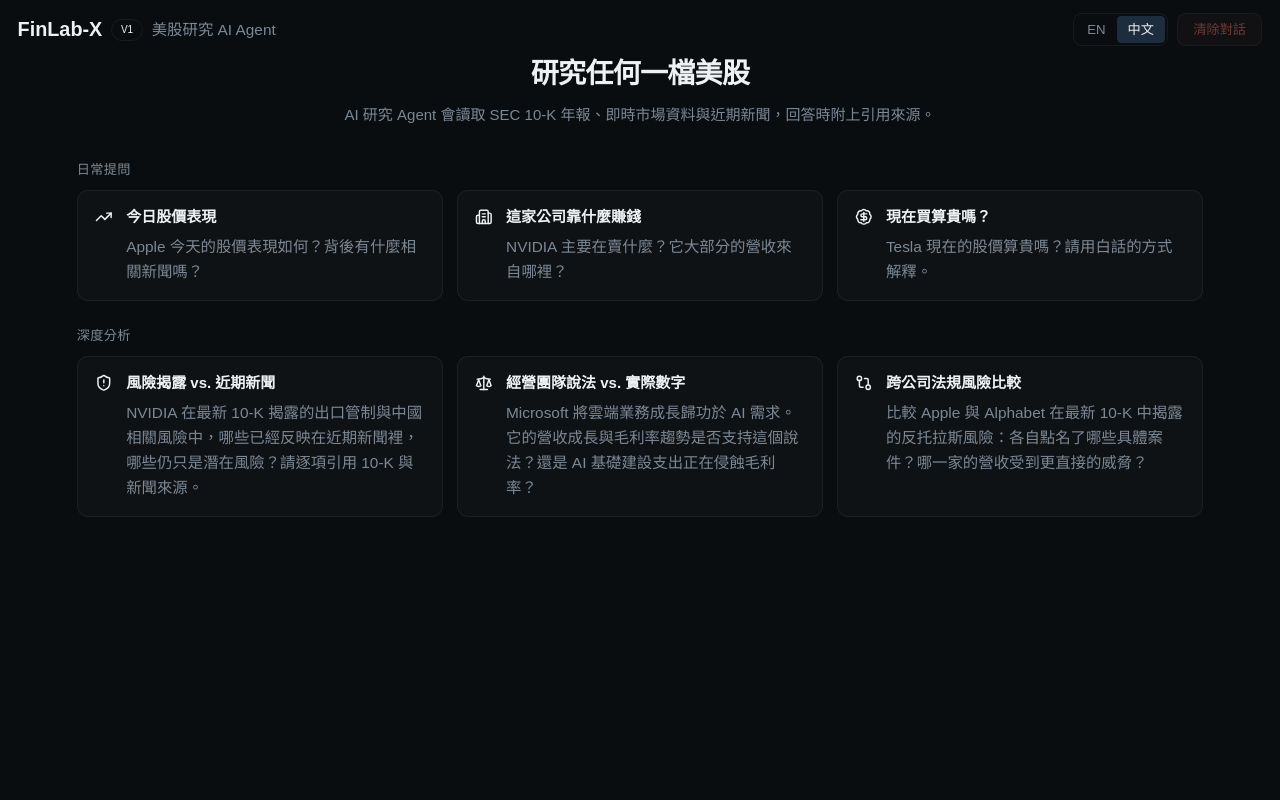
it: LanguageToggle › a stored choice survives a remount, and switching back to EN restores English
Check: the heading "研究任何一檔美股" is shown, box [531,53,749,95]
Click the button with aria-label "English": (1096,30) [1076,16,1116,43]
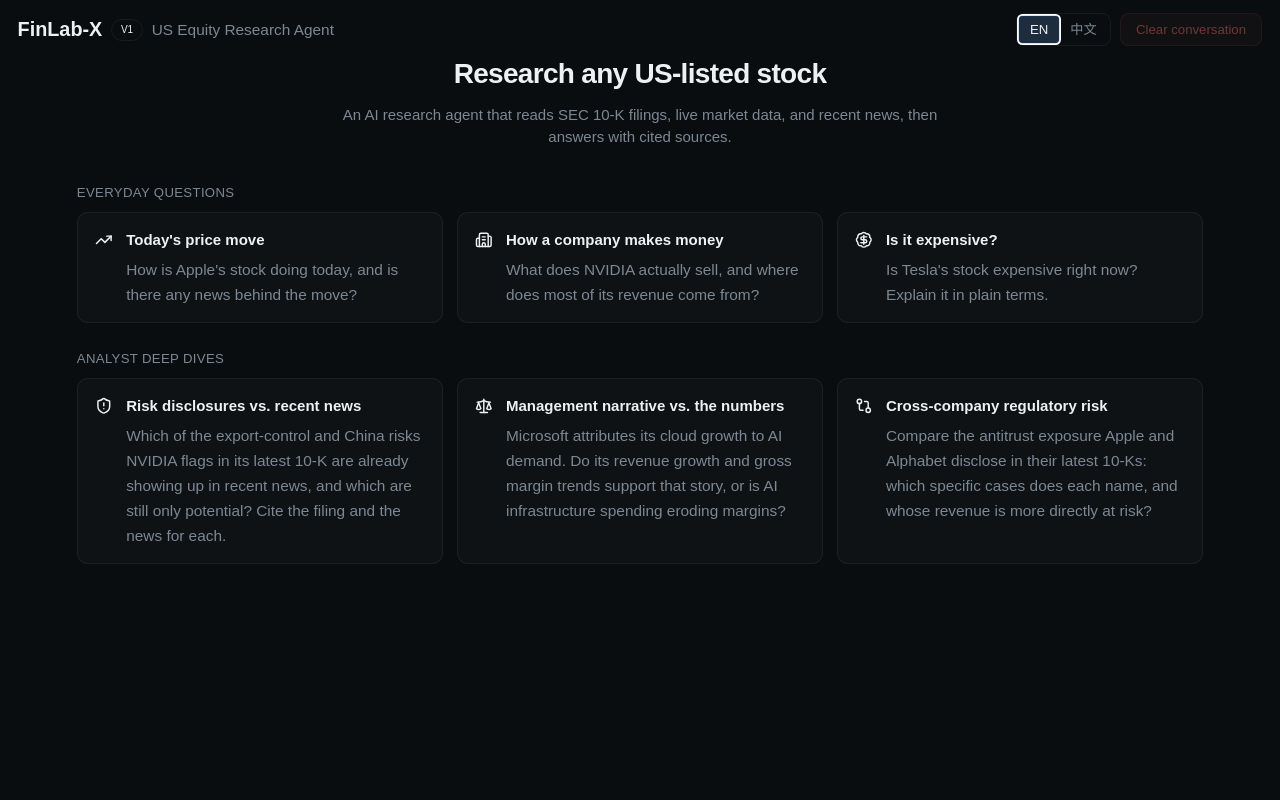
Check: the heading "Research any US-listed stock" is shown, box [454,53,826,95]
